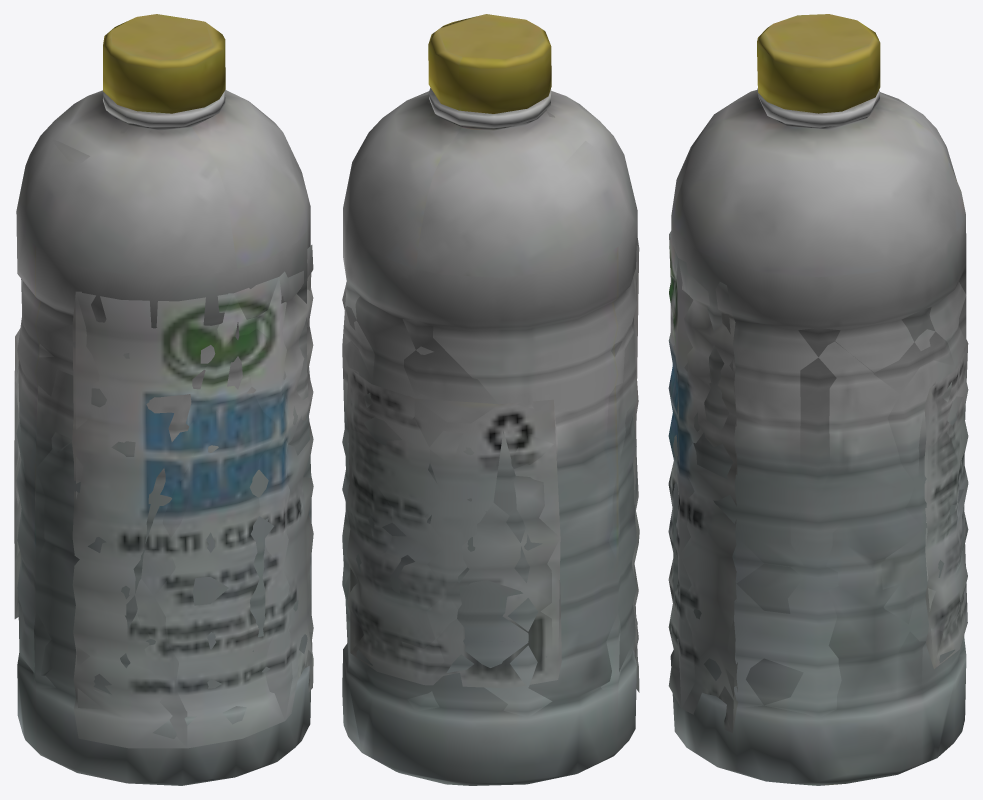
The model's file is multi_cleaner_bottle.glb.
3 renders of one model, left to right at view 1: azimuth 30°, elevation 25°; view 2: azimuth 150°, elevation 25°; view 3: azimuth 270°, elevation 25°, orthographic.
Visible parts, largest first — view 1: multi_cleaner_bottle, multi_cleaner_bottle_lo; view 2: multi_cleaner_bottle, multi_cleaner_bottle_lo; view 3: multi_cleaner_bottle, multi_cleaner_bottle_lo.
Boxes of the visible parts, left/top/right/bottom form: multi_cleaner_bottle: left=14, top=14, right=313, bottom=785; multi_cleaner_bottle_lo: left=14, top=17, right=312, bottom=747; multi_cleaner_bottle: left=342, top=14, right=639, bottom=785; multi_cleaner_bottle_lo: left=342, top=14, right=639, bottom=717; multi_cleaner_bottle: left=668, top=14, right=968, bottom=785; multi_cleaner_bottle_lo: left=669, top=16, right=968, bottom=732.
Size of the model in its own units: 0.0885 by 0.2286 by 0.0897.
1 material, 1 textured.
